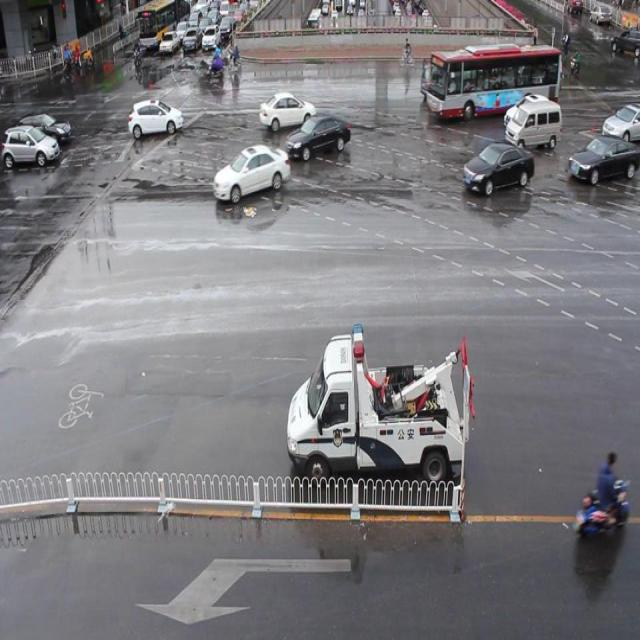bus: (286, 320, 475, 486)
car: (212, 142, 290, 200), (461, 140, 532, 195), (567, 137, 640, 185), (286, 114, 348, 160), (259, 92, 316, 130), (128, 99, 184, 136), (503, 92, 549, 137), (418, 61, 461, 103), (600, 103, 640, 145)
truck: (504, 100, 560, 151)
van: (427, 49, 560, 112)
